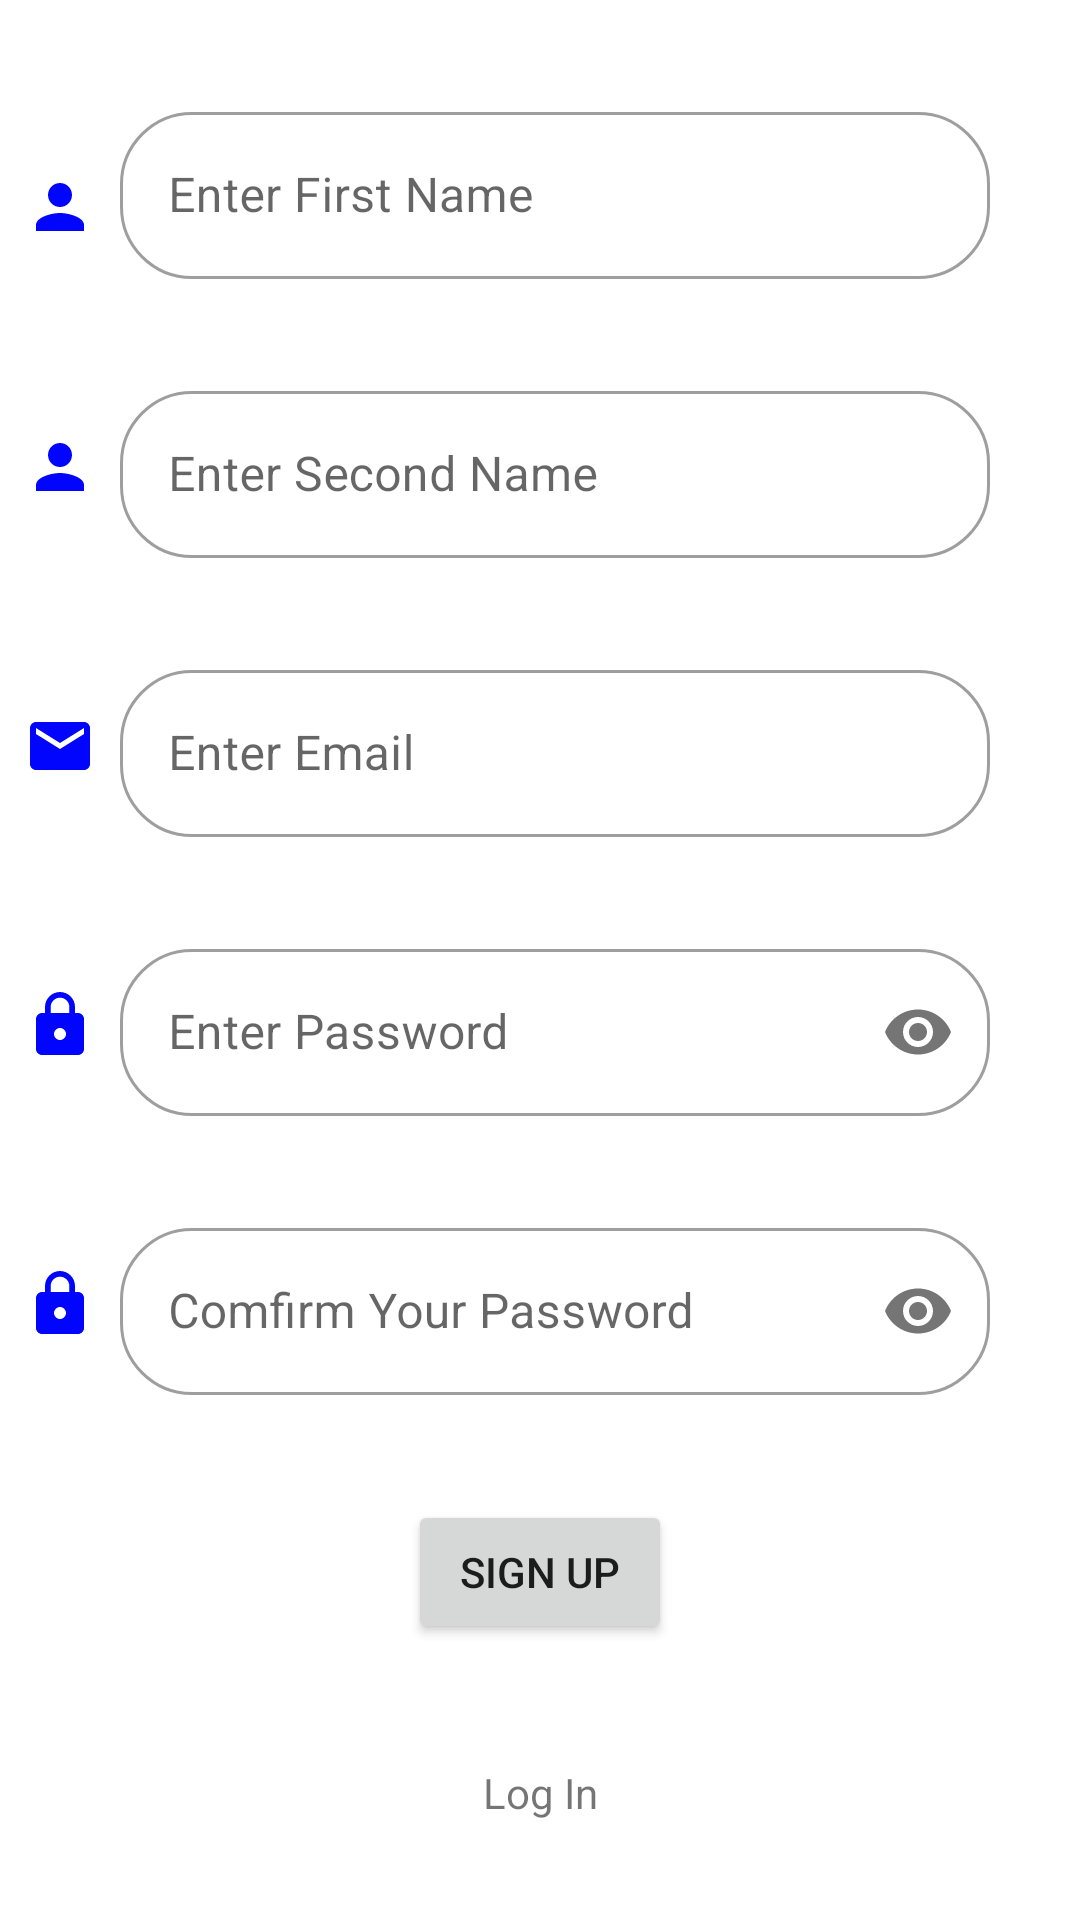

Where icons sit on this 1080px×1920px app screen, as box(x1, y1, x2, y2):
lock: box(36, 992, 84, 1055), box(36, 1271, 84, 1334)
person: box(36, 183, 84, 231), box(36, 443, 84, 491)
